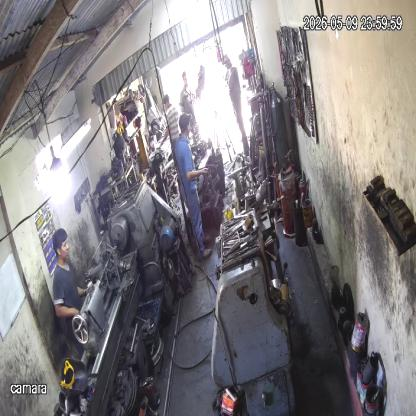sin_lentes: (57, 240, 70, 250)
